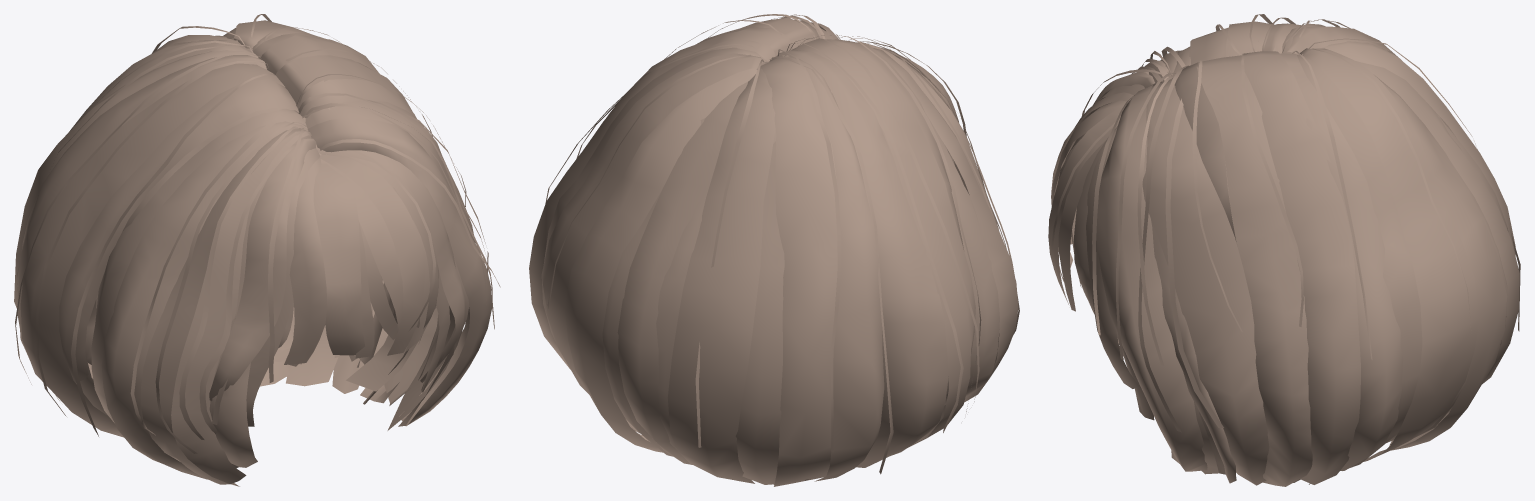
The model's file is female_hair_08_lod0.glb.
3 views of the same model, side by side, from view 1: azimuth 30°, elevation 25°; view 2: azimuth 150°, elevation 25°; view 3: azimuth 270°, elevation 25° (orthographic).
Visible parts, largest first — view 1: female-hair-08; view 2: female-hair-08; view 3: female-hair-08.
Part boxes in pixels (x1,y1,x2,y2): female-hair-08: (14, 14, 500, 486); female-hair-08: (529, 14, 1019, 486); female-hair-08: (1048, 14, 1520, 486).
Size of the model in its own units: 0.2366 by 0.2099 by 0.2265.
